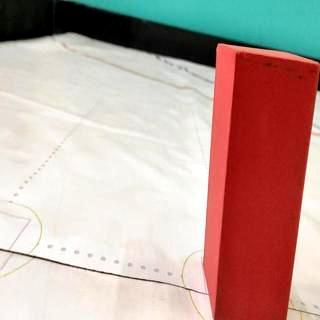redbox: (215, 46, 295, 320)
